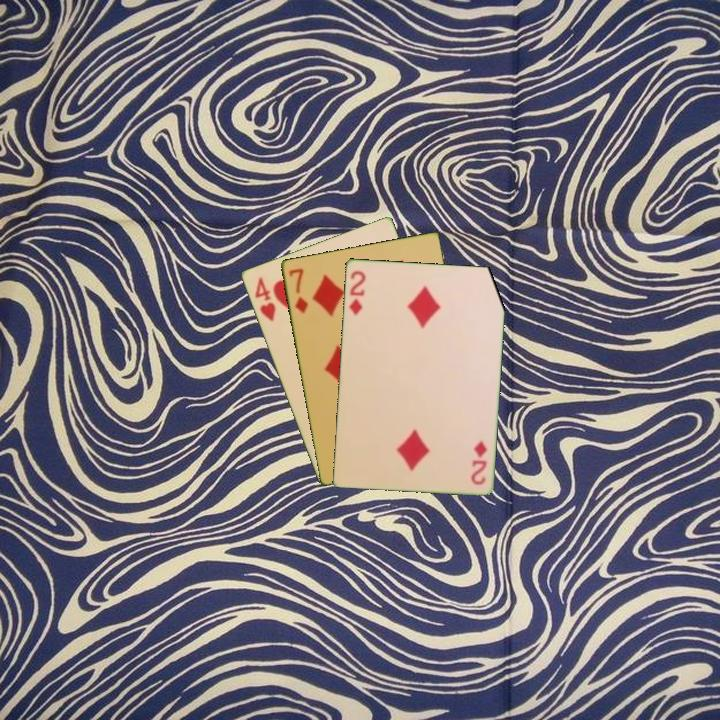2d: (345, 267, 368, 318), (468, 437, 490, 487)
4h: (251, 274, 278, 324)
7d: (285, 264, 311, 316)
